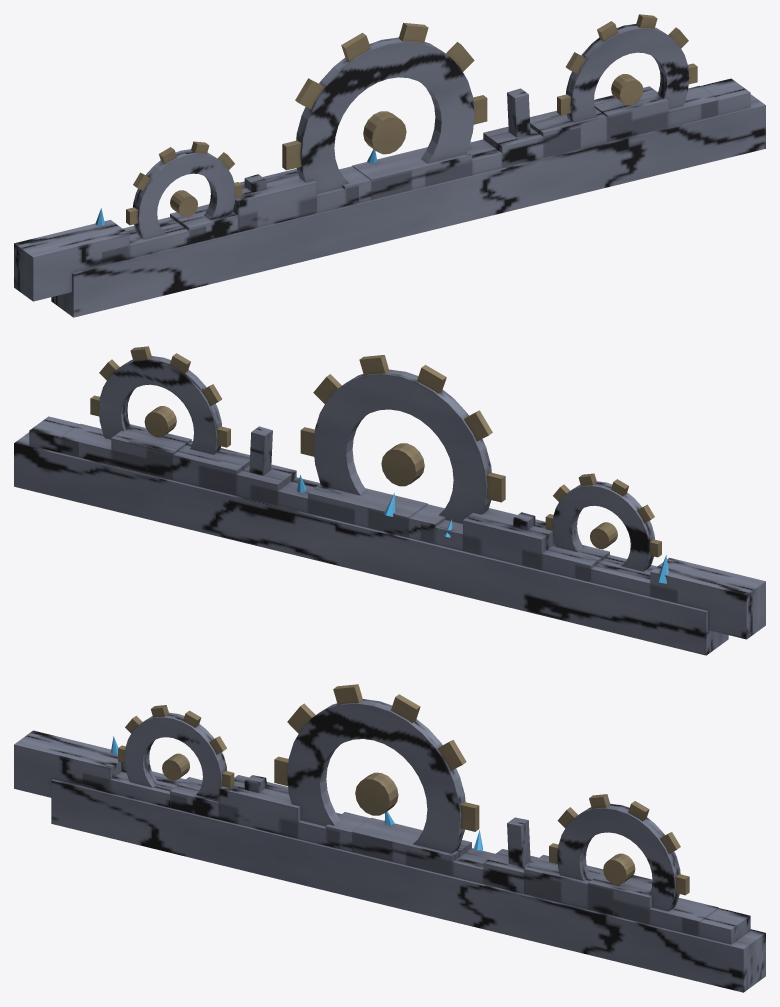
File: BG_Ridge_Gears.obj
3 views of the same model, one above another, from view 1: azimuth 30°, elevation 25°; view 2: azimuth 150°, elevation 25°; view 3: azimuth 330°, elevation 25° (orthographic).
Parts seen in each view (by area): view 1: BG_Ridge_Gears; view 2: BG_Ridge_Gears; view 3: BG_Ridge_Gears.
Part boxes in pixels (x1,y1,x2,y2): BG_Ridge_Gears: [14, 14, 765, 317]; BG_Ridge_Gears: [14, 346, 765, 655]; BG_Ridge_Gears: [14, 684, 765, 992].
Bounding box in the file's own units: 1 × 0.2707 × 0.0546.
Materials: 1 (1 with a texture image).
